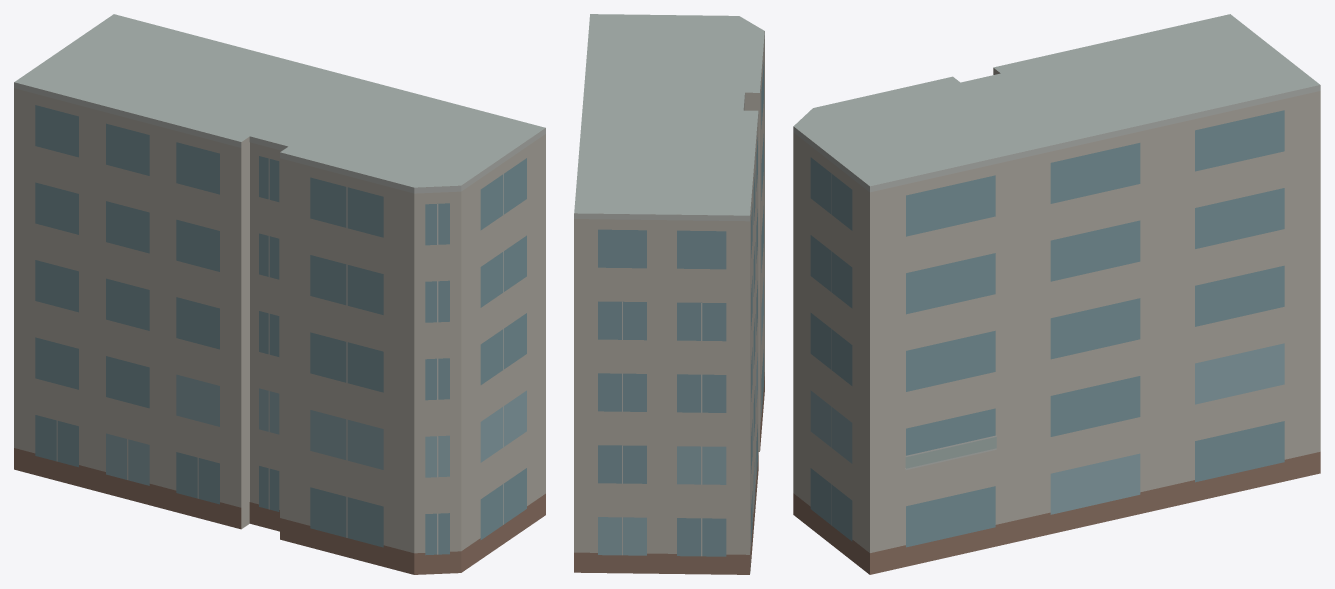
The model's file is survey-upis-32658727.glb.
3 renders of one model, left to right at view 1: azimuth 30°, elevation 25°; view 2: azimuth 150°, elevation 25°; view 3: azimuth 270°, elevation 25°, orthographic. The views are drawn at different scales.
Visible parts, largest first — view 1: survey-upis-32658727.tmp; view 2: survey-upis-32658727.tmp; view 3: survey-upis-32658727.tmp.
Boxes of the visible parts, x1,y1,x2,y2 form: survey-upis-32658727.tmp: (14, 14, 545, 574); survey-upis-32658727.tmp: (574, 14, 764, 574); survey-upis-32658727.tmp: (793, 14, 1320, 574).
Bounding box in the file's own units: 15.04 × 15.8 × 19.44.
